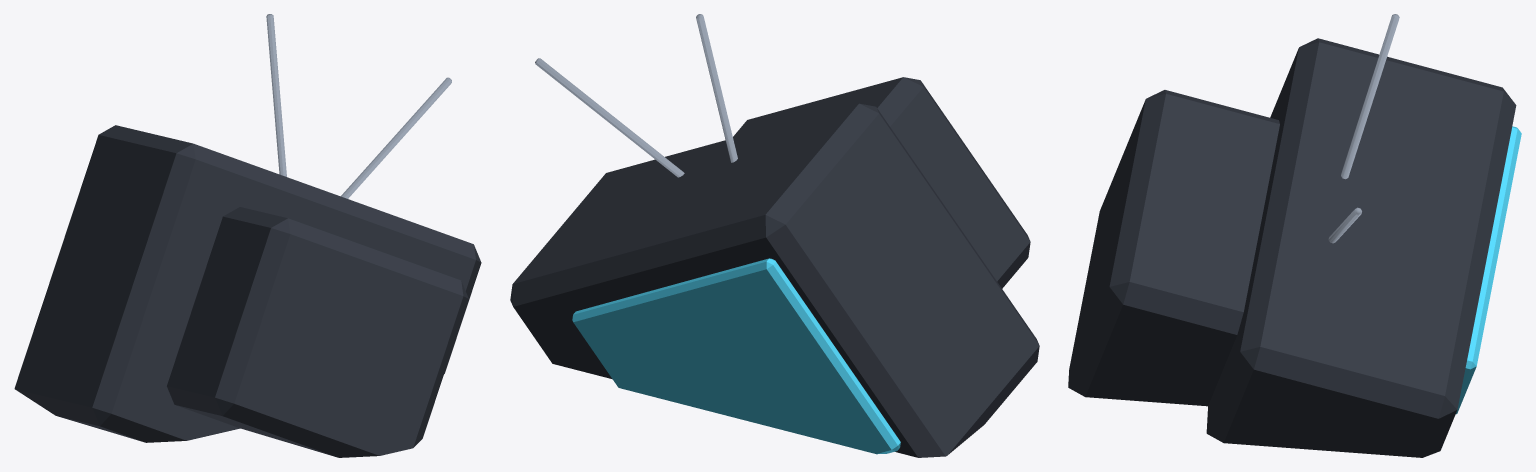
The model's file is noclipped_crt_tv.obj.
3 views of the same model, side by side, from view 1: azimuth 30°, elevation 25°; view 2: azimuth 150°, elevation 25°; view 3: azimuth 270°, elevation 25° (orthographic). The views are drawn at different scales.
Visible parts, largest first — view 1: FrontBox, RearTube, AntL, AntR; view 2: FrontBox, Screen, RearTube, AntR, AntL; view 3: FrontBox, RearTube, Screen, AntL.
Boxes of the visible parts, x1,y1,x2,y2 form: FrontBox: (14, 125, 481, 442); RearTube: (167, 207, 468, 457); AntL: (266, 14, 286, 176); AntR: (341, 77, 451, 198); FrontBox: (510, 103, 1039, 457); Screen: (572, 258, 900, 454); RearTube: (733, 77, 1030, 288); AntR: (535, 58, 684, 177); AntL: (696, 14, 737, 162); FrontBox: (1206, 38, 1516, 457); RearTube: (1068, 90, 1279, 406); Screen: (1456, 126, 1521, 414); AntL: (1341, 14, 1399, 179).
Size of the model in its own units: 0.9468 by 0.7297 by 0.8031.
